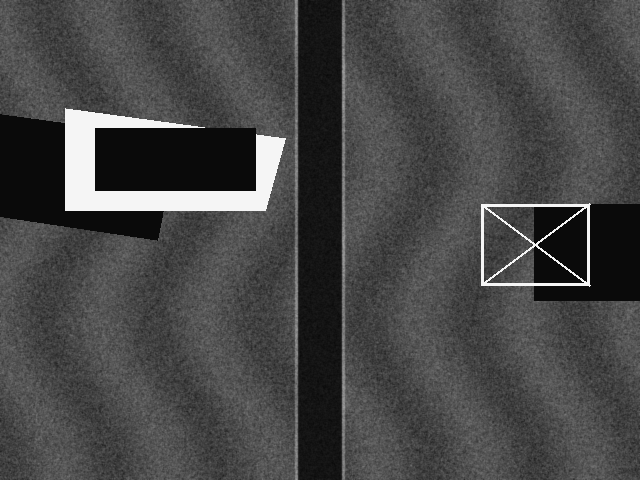Abandoned Equipment: (481, 204, 589, 285)
Ship/Boat Debris: (65, 108, 285, 210)
